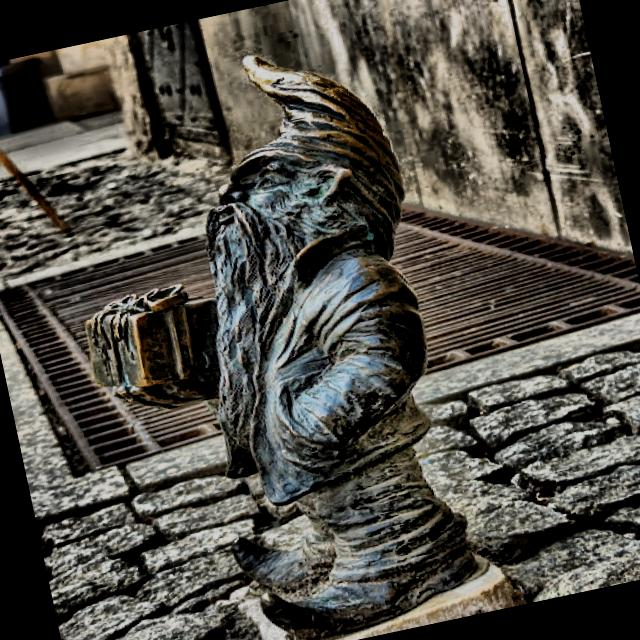Suvenirek: (86, 56, 485, 639)
